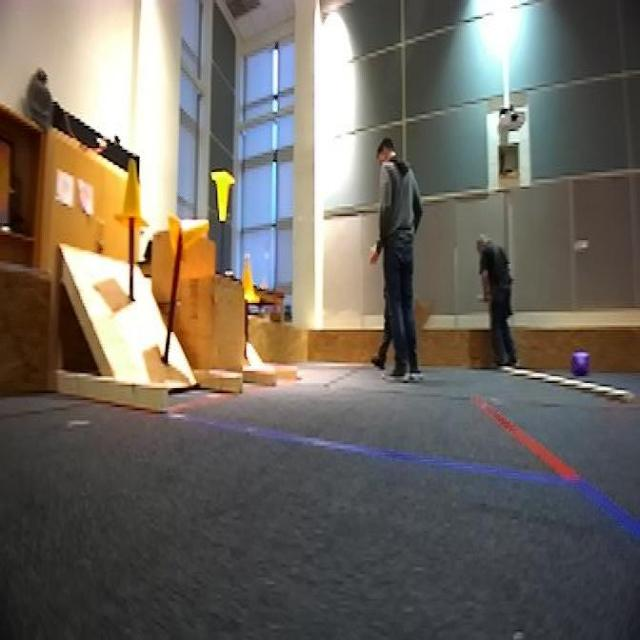frc_cone: (114, 158, 150, 230), (165, 214, 208, 266), (237, 252, 263, 306), (210, 165, 234, 223)
frc_cube: (572, 350, 590, 380)
